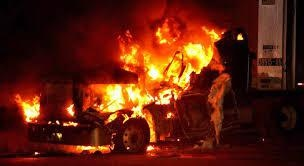fire: (27, 15, 232, 134), (14, 92, 42, 121)
